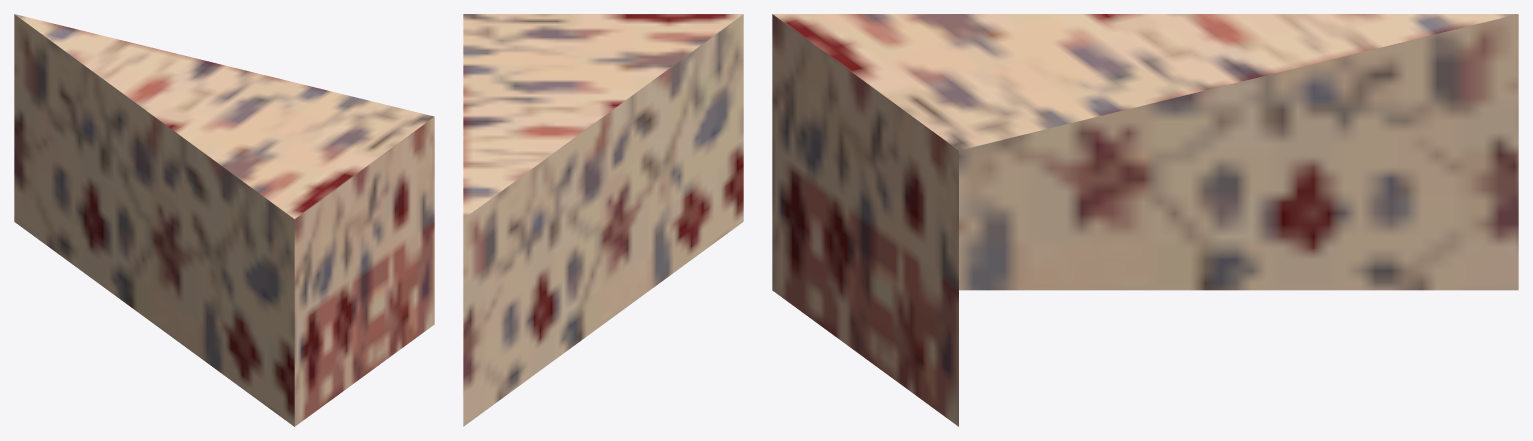
The picture shows the model from 3 angles, left to right: view 1: azimuth 30°, elevation 25°; view 2: azimuth 150°, elevation 25°; view 3: azimuth 270°, elevation 25°; orthographic projection. The views are drawn at different scales.
Parts seen in each view (by area): view 1: Joint_0_Object_0; view 2: Joint_0_Object_0; view 3: Joint_0_Object_0.
Boxes of the visible parts, x1,y1,x2,y2 form: Joint_0_Object_0: [14, 14, 434, 426]; Joint_0_Object_0: [463, 14, 743, 426]; Joint_0_Object_0: [772, 14, 1518, 426].
Bounding box in the file's own units: 456 × 430 × 1052.
